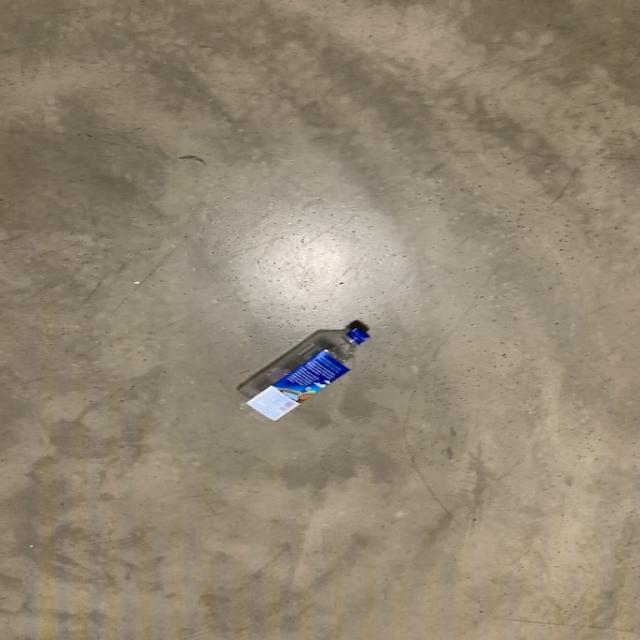Waste: (238, 320, 370, 421)
